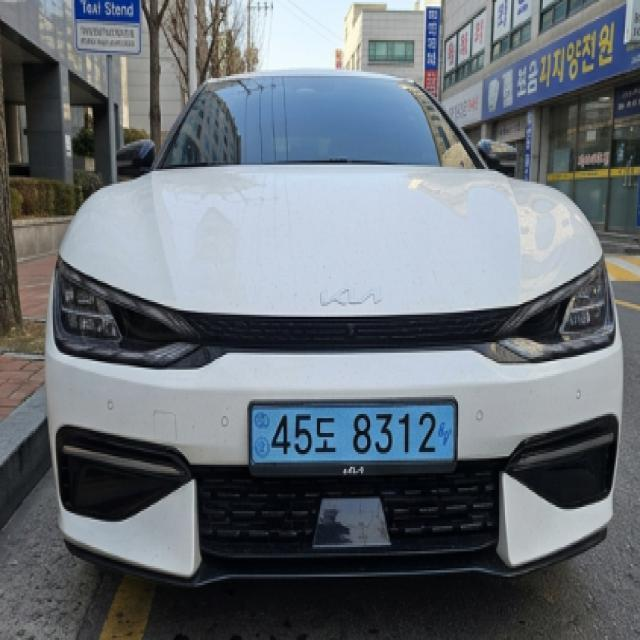car: (238, 390, 466, 493)
carev: (436, 402, 457, 468), (254, 406, 271, 469)
